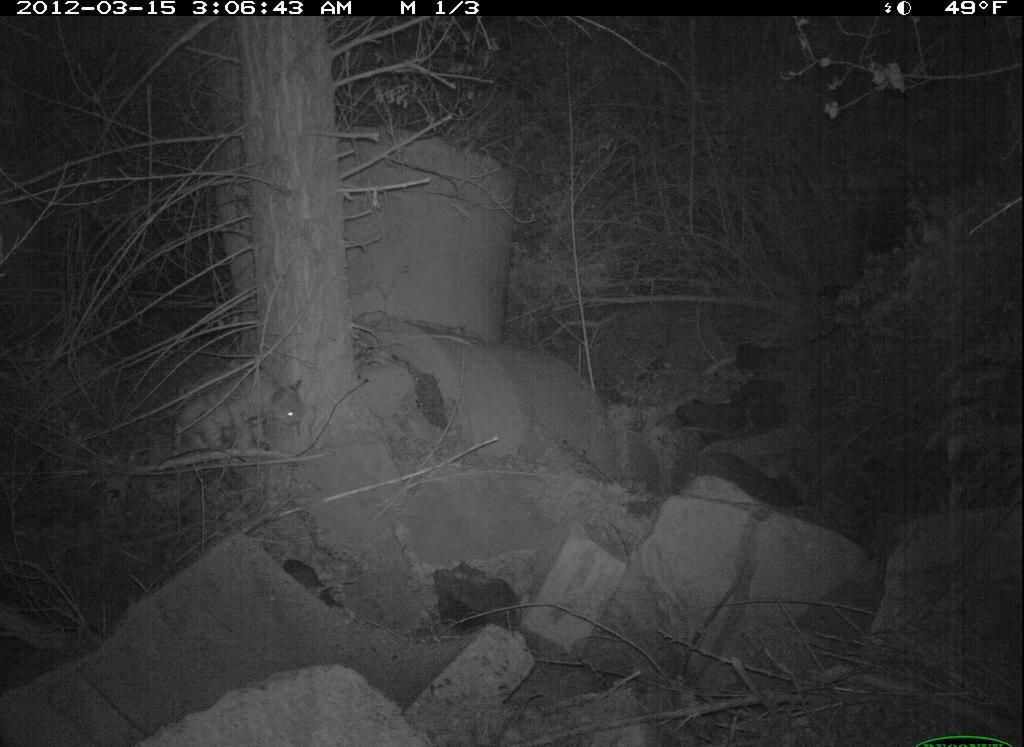bobcat: (164, 364, 312, 473)
